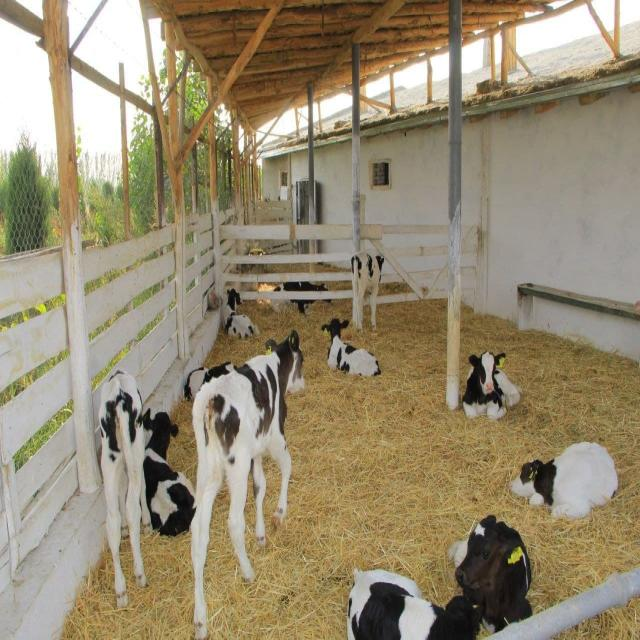cow: (187, 328, 305, 638), (95, 369, 149, 610), (448, 513, 532, 635), (346, 566, 482, 638), (508, 440, 618, 520), (140, 408, 196, 538), (461, 349, 521, 420), (321, 316, 381, 376), (350, 250, 384, 332), (183, 361, 239, 403), (270, 280, 332, 314), (220, 287, 260, 339)
